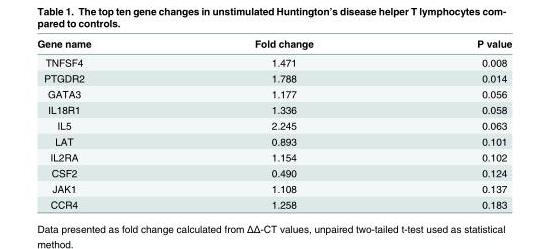table: (36, 37, 511, 209)
table column: (172, 37, 394, 209), (36, 37, 172, 209), (394, 37, 511, 209)
table column header: (36, 37, 511, 52)
table row: (36, 52, 511, 70), (36, 85, 511, 101), (36, 101, 511, 117), (36, 117, 511, 133), (36, 148, 511, 164), (36, 164, 511, 180), (36, 180, 511, 196), (36, 37, 511, 52), (36, 70, 511, 85), (36, 133, 511, 148), (36, 196, 511, 209)
